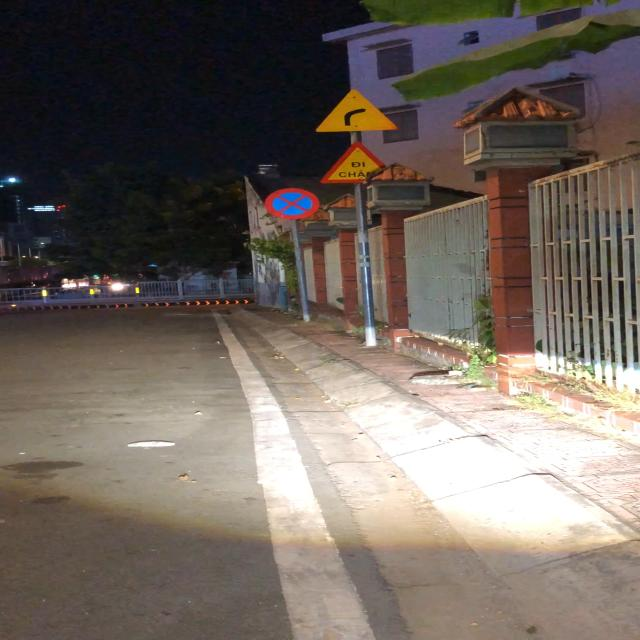Bien bao cam dung xe va do xe: (263, 188, 321, 220)
Bien bao cho ngoat nguy hiem: (312, 88, 399, 134)
Bien bao di cham: (316, 140, 394, 186)
